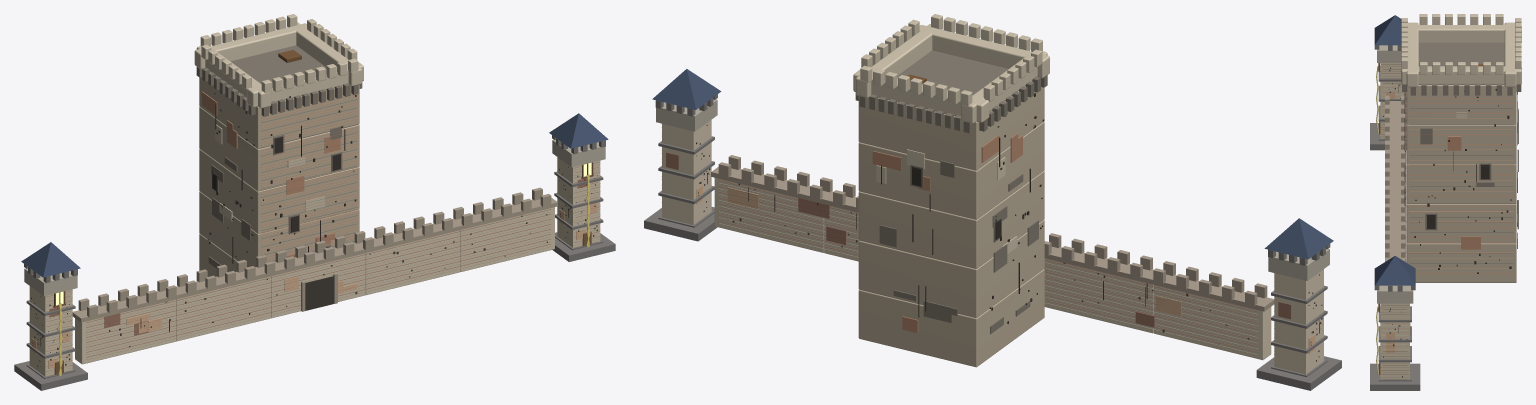
Rendered from Rapunzel4.fbx.
3 renders of one model, left to right at view 1: azimuth 30°, elevation 25°; view 2: azimuth 150°, elevation 25°; view 3: azimuth 270°, elevation 25°, orthographic. The views are drawn at different scales.
Visible parts, largest first — view 1: MTEC_Keep_Body_Part_03_Destructible, MTEC_Keep_Body_Part_04_Destructible, MTEC_Keep_Body_Part_05_Destructible, MTEC_Keep_Body_Part_02_Destructible, MTEC_Wall_Part_04_Destructible, MTEC_Wall_Part_02_Destructible, MTEC_Wall_Part_05_Destructible, MTEC_Wall_Top_Dark_Mortar_Band, MTEC_Wall_Part_01_Destructible, MTEC_Wall_Part_03_Destructible, MTEC_Keep_Back_Parapet_Wall, MTEC_Keep_Open_Flat_Roof_Floor (+29 smaller); view 2: MTEC_Keep_Body_Part_01_Destructible, MTEC_Keep_Body_Part_03_Destructible, MTEC_Keep_Body_Part_02_Destructible, MTEC_Keep_Body_Part_04_Destructible, MTEC_Keep_Body_Part_05_Destructible, MTEC_Wall_Part_01_Destructible, MTEC_Wall_Part_02_Destructible, MTEC_Wall_Part_05_Destructible, MTEC_Wall_Top_Dark_Mortar_Band, MTEC_Keep_Open_Flat_Roof_Floor, MTEC_Keep_Front_Parapet_Wall, MTEC_Keep_Right_Parapet_Wall (+19 smaller); view 3: MTEC_Keep_Body_Part_03_Destructible, MTEC_Keep_Body_Part_04_Destructible, MTEC_Keep_Body_Part_01_Destructible, MTEC_Keep_Body_Part_02_Destructible, MTEC_Keep_Body_Part_05_Destructible, MTEC_Keep_Open_Flat_Roof_Floor, MTEC_Wall_Top_Dark_Mortar_Band, MTEC_Keep_Left_Parapet_Wall, MTEC_Keep_Right_Parapet_Wall, MTEC_Tower_Right_Very_Pointed_Pyramid_Roof, MTEC_Tower_Right_Square_Stone_Platform, MTEC_Keep_Back_Parapet_Wall (+27 smaller).
Boxes of the visible parts, x1,y1,x2,y2 form: MTEC_Keep_Body_Part_03_Destructible: (199, 149, 359, 233); MTEC_Keep_Body_Part_04_Destructible: (199, 107, 359, 191); MTEC_Keep_Body_Part_05_Destructible: (199, 72, 359, 149); MTEC_Keep_Body_Part_02_Destructible: (199, 191, 359, 267); MTEC_Wall_Part_04_Destructible: (365, 230, 460, 295); MTEC_Wall_Part_02_Destructible: (176, 276, 270, 341); MTEC_Wall_Part_05_Destructible: (460, 207, 554, 271); MTEC_Wall_Top_Dark_Mortar_Band: (72, 197, 557, 322); MTEC_Wall_Part_01_Destructible: (75, 299, 176, 364); MTEC_Wall_Part_03_Destructible: (271, 253, 365, 318); MTEC_Keep_Back_Parapet_Wall: (194, 23, 306, 69); MTEC_Keep_Open_Flat_Roof_Floor: (230, 45, 326, 83); MTEC_Keep_Body_Part_01_Destructible: (858, 269, 1044, 367); MTEC_Keep_Body_Part_03_Destructible: (858, 171, 1044, 268); MTEC_Keep_Body_Part_02_Destructible: (858, 220, 1044, 318); MTEC_Keep_Body_Part_04_Destructible: (858, 122, 1044, 219); MTEC_Keep_Body_Part_05_Destructible: (858, 81, 1044, 170); MTEC_Wall_Part_01_Destructible: (1153, 285, 1271, 360); MTEC_Wall_Part_02_Destructible: (1044, 258, 1153, 333); MTEC_Wall_Part_05_Destructible: (714, 178, 824, 252); MTEC_Wall_Top_Dark_Mortar_Band: (711, 167, 1274, 311); MTEC_Keep_Open_Flat_Roof_Floor: (897, 50, 1008, 95); MTEC_Keep_Front_Parapet_Wall: (919, 25, 1049, 78); MTEC_Keep_Right_Parapet_Wall: (856, 24, 936, 97); MTEC_Keep_Body_Part_03_Destructible: (1406, 164, 1516, 203); MTEC_Keep_Body_Part_04_Destructible: (1406, 124, 1516, 164); MTEC_Keep_Body_Part_01_Destructible: (1406, 243, 1516, 282); MTEC_Keep_Body_Part_02_Destructible: (1406, 203, 1516, 243); MTEC_Keep_Body_Part_05_Destructible: (1406, 85, 1516, 124); MTEC_Keep_Open_Flat_Roof_Floor: (1418, 42, 1504, 66); MTEC_Wall_Top_Dark_Mortar_Band: (1389, 101, 1400, 258); MTEC_Keep_Left_Parapet_Wall: (1408, 25, 1521, 42); MTEC_Keep_Right_Parapet_Wall: (1401, 66, 1521, 84); MTEC_Tower_Right_Very_Pointed_Pyramid_Roof: (1374, 256, 1415, 285); MTEC_Tower_Right_Square_Stone_Platform: (1370, 363, 1420, 390); MTEC_Keep_Back_Parapet_Wall: (1504, 22, 1516, 87).
Bounding box in the file's own units: 3265 × 1289 × 800.
